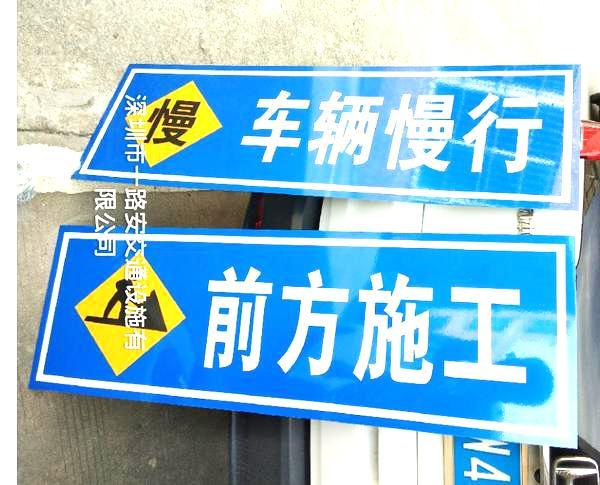sign: (40, 229, 576, 443), (101, 66, 580, 206)
